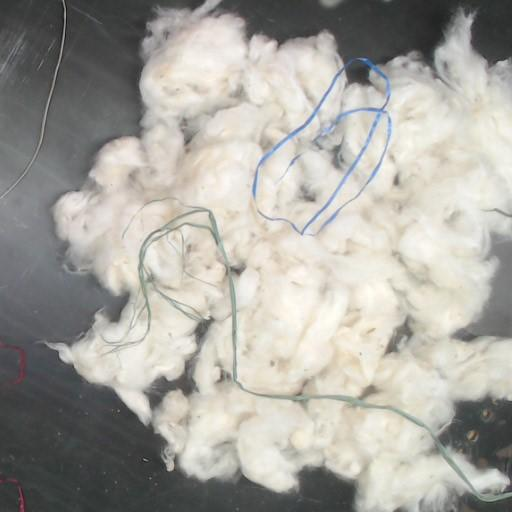conveyor belt: (0, 2, 351, 511), (224, 0, 511, 62), (448, 400, 511, 475)
cotton: (48, 0, 511, 511)
thread: (139, 206, 511, 501), (252, 58, 392, 235), (0, 0, 66, 199)
